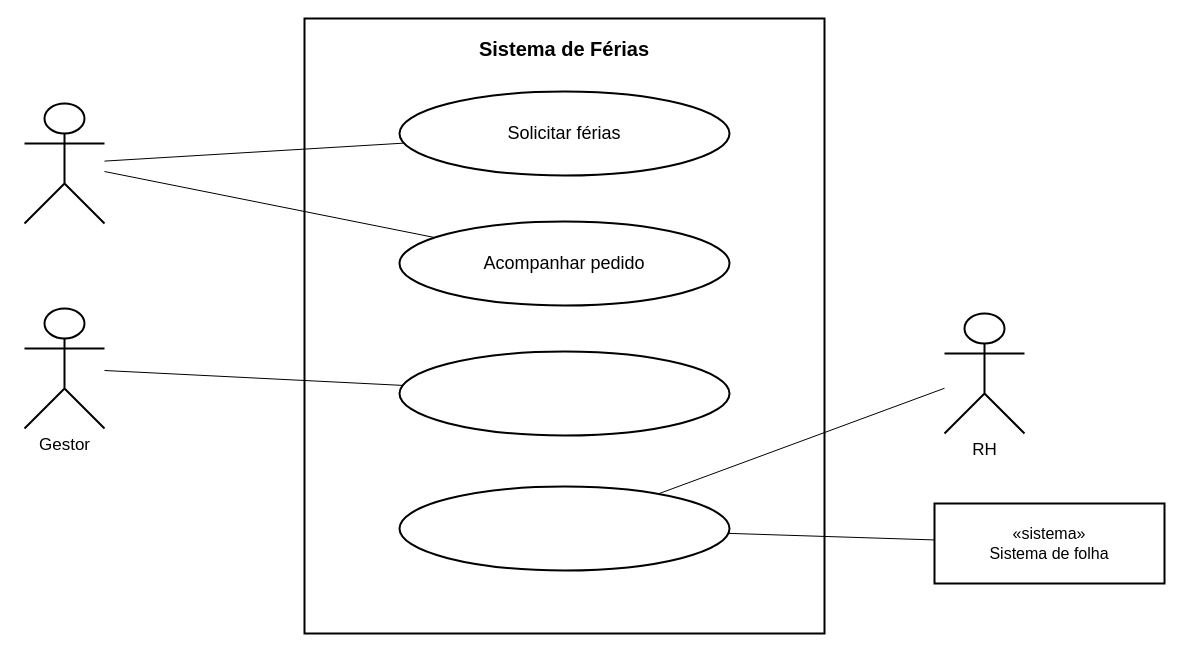
Some shapes in this 1182 by 651 pixel diagram are drawn without their labels. The shapes that lost their labels are listed below. From the top down, each one's centre as x and y in pixels, then its label:
the point at 64,163: Colaborador
the point at 564,393: Analisar pedido
the point at 564,528: Registrar férias
